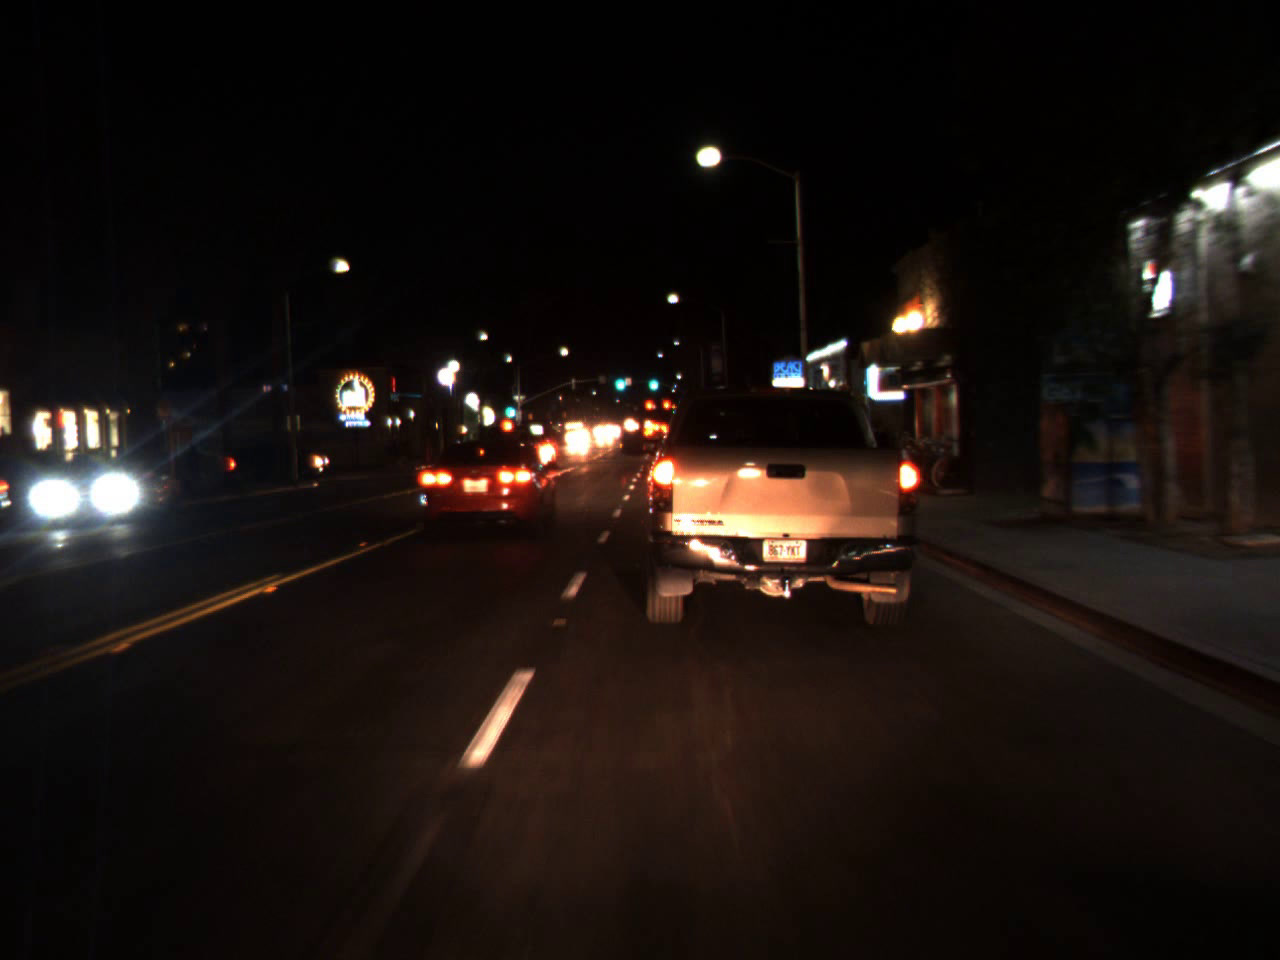go: (611, 365, 629, 395), (646, 365, 660, 395), (502, 397, 516, 418)
